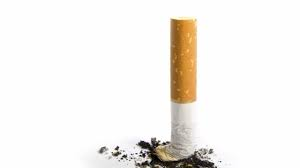cigarette: (163, 13, 202, 165)
